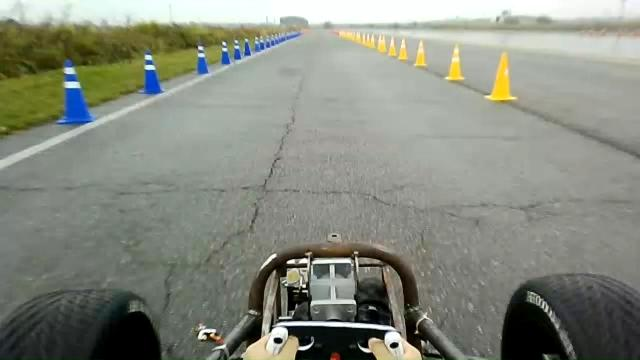blue cone: (55, 58, 95, 124), (137, 49, 165, 94), (195, 43, 209, 75), (220, 41, 231, 64), (233, 38, 242, 60)
yellow cone: (484, 51, 518, 101), (446, 43, 464, 81), (414, 39, 427, 67), (398, 38, 408, 60), (377, 34, 387, 53), (388, 35, 397, 56)
